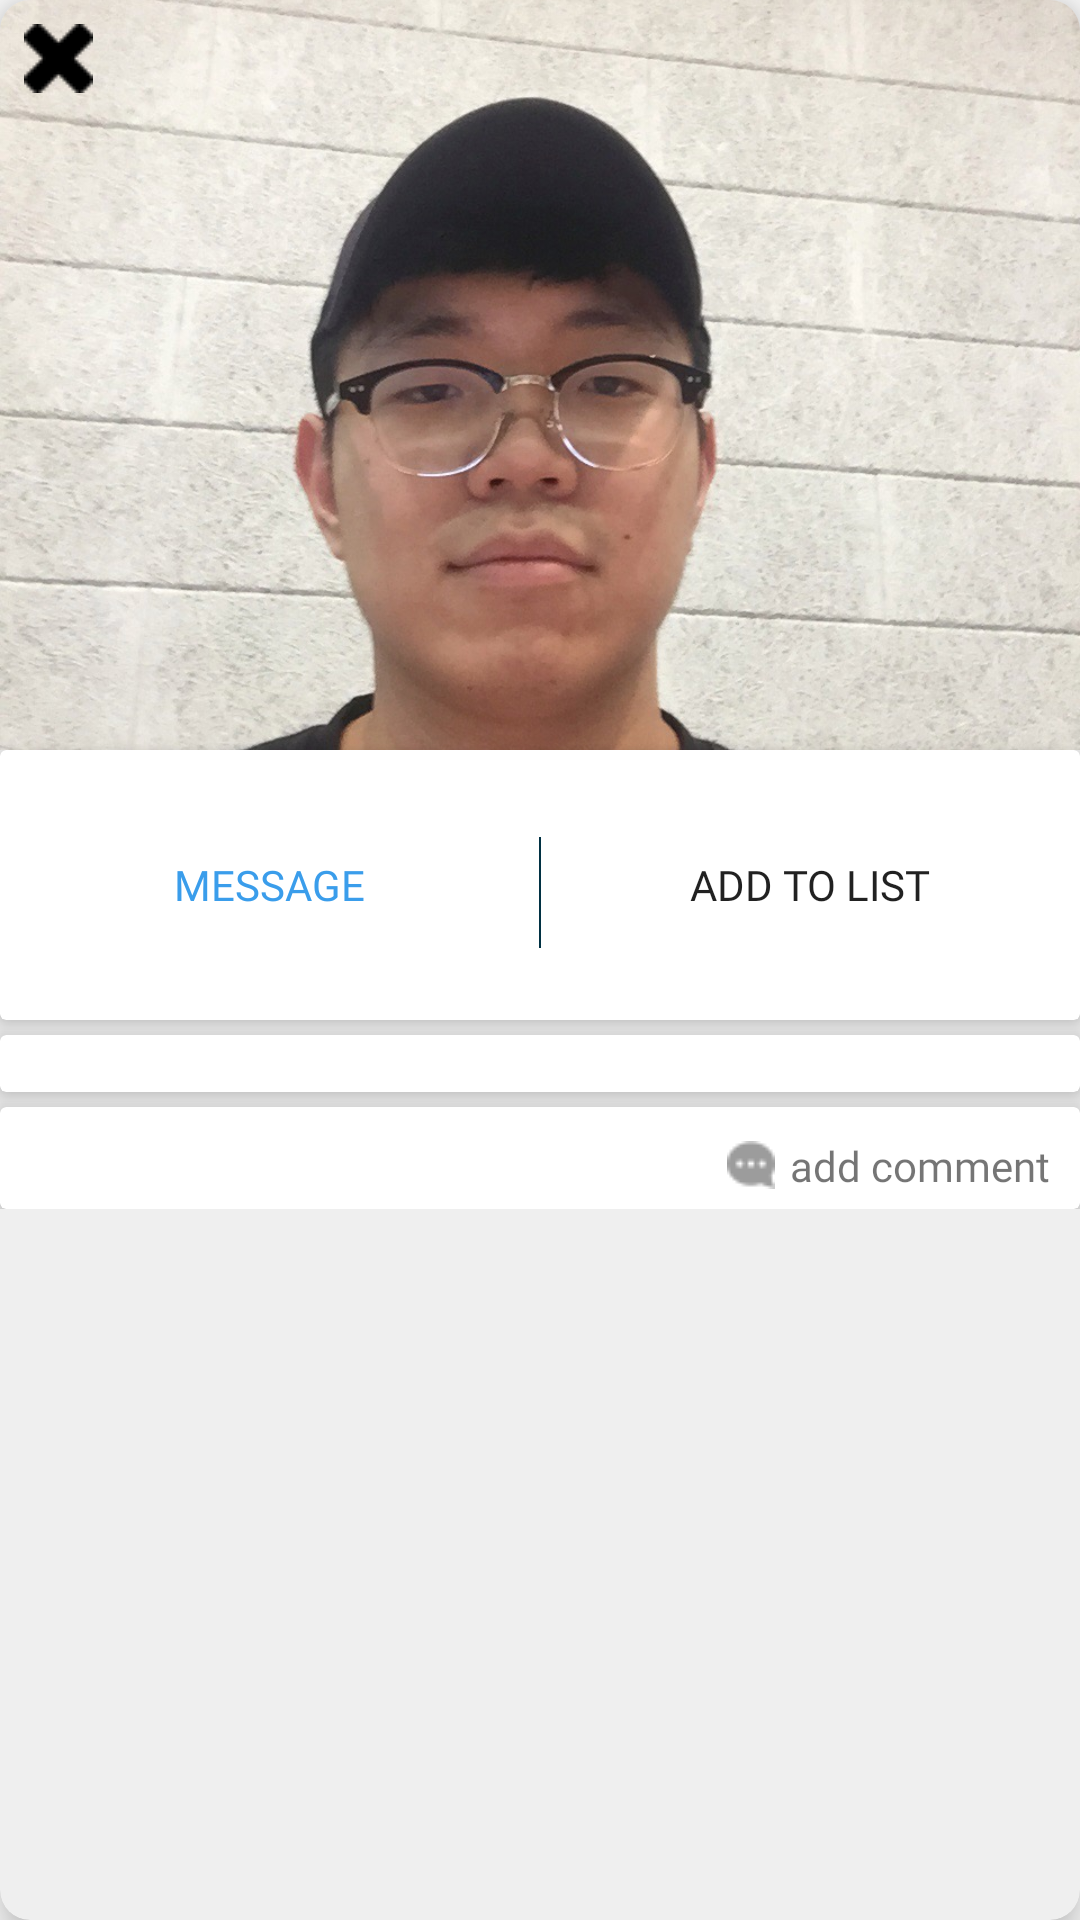

Icon bounding boxes for this 1080 x 1920 phone screenshot, format Rect(x1, y1, x2, y2):
cancel: Rect(24, 24, 93, 93)
